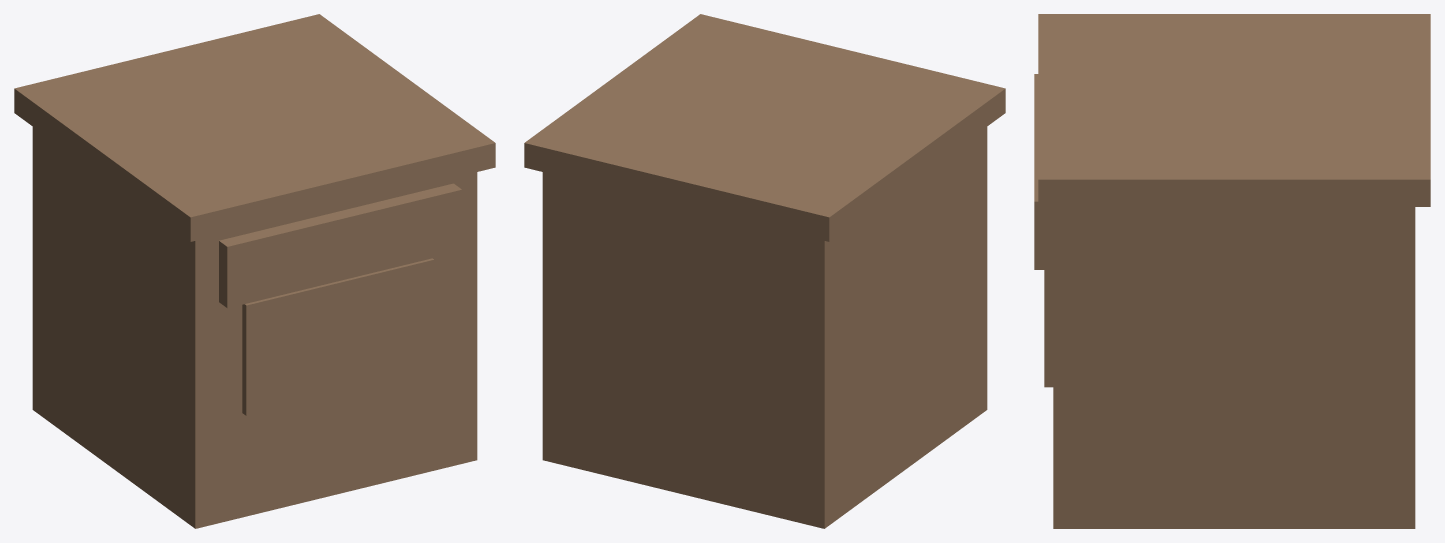
The model's file is kiosk.glb.
3 views of the same model, side by side, from view 1: azimuth 30°, elevation 25°; view 2: azimuth 150°, elevation 25°; view 3: azimuth 270°, elevation 25° (orthographic). The views are drawn at different scales.
Parts seen in each view (by area): view 1: p_kiosk; view 2: p_kiosk; view 3: p_kiosk.
Boxes of the visible parts, box(x1,y1,x2,y2) form: p_kiosk: box(14, 14, 495, 528); p_kiosk: box(524, 14, 1005, 528); p_kiosk: box(1034, 14, 1430, 528).
Size of the model in its own units: 2.6 by 2.6 by 2.62.
